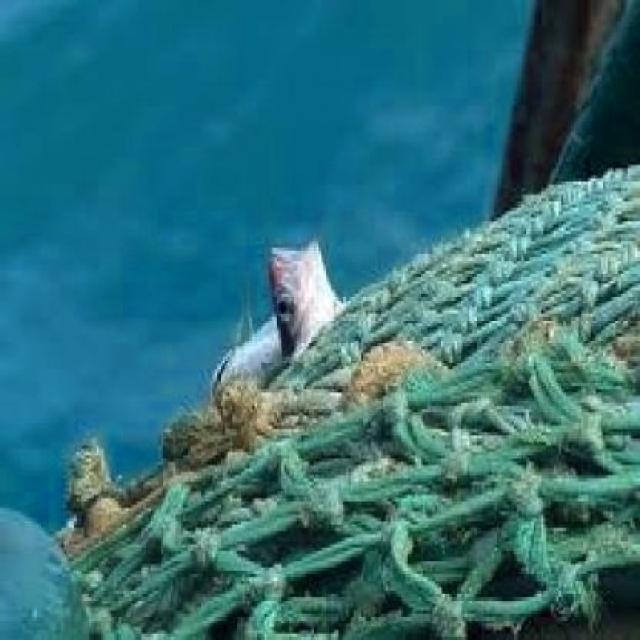net: (103, 181, 640, 640)
